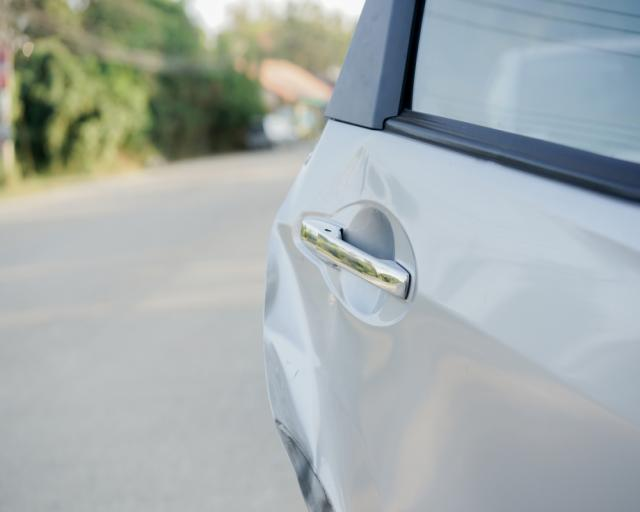dent: (267, 223, 445, 512)
